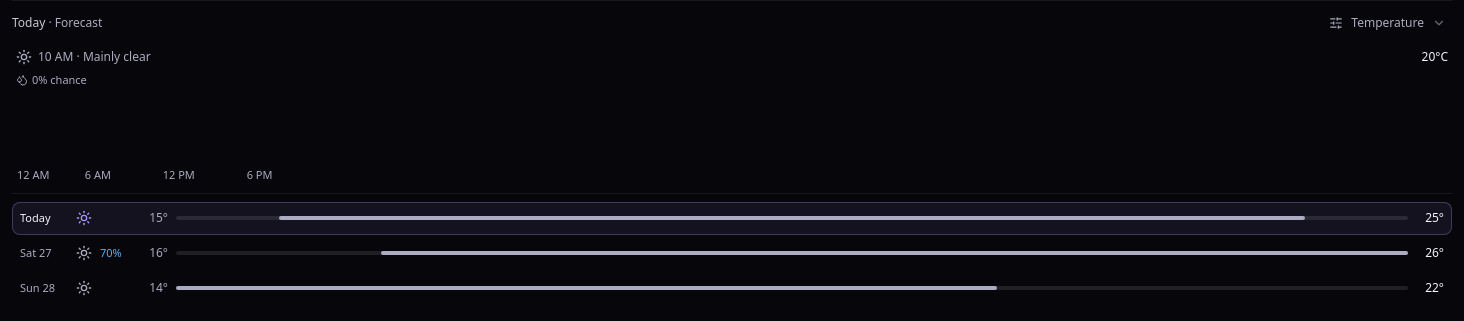
Scenario: WeatherForecast › handles unavailable days without inventing an hourly reading
Click the button with aria-label "Sun 28, low" at (732, 288), box [12, 272, 1452, 304]
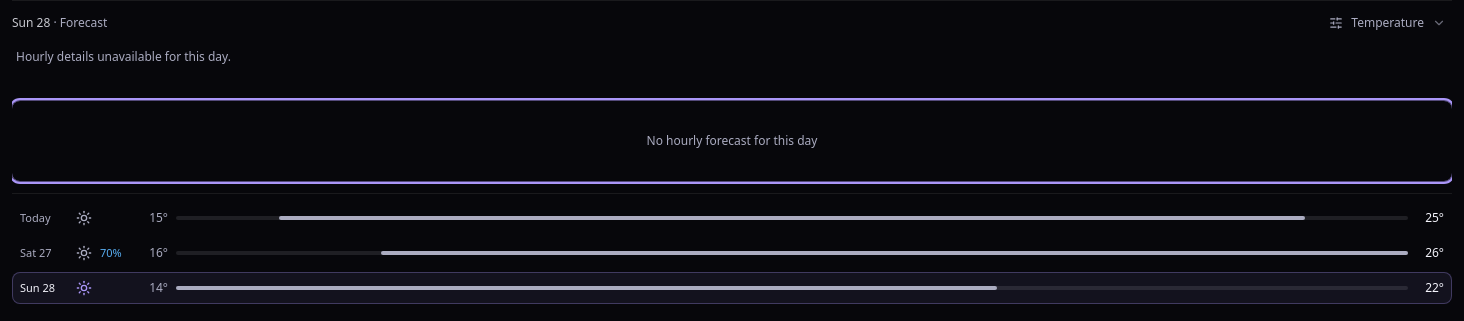
Now the text "No hourly forecast for this day" is shown, box [647, 132, 818, 149]
